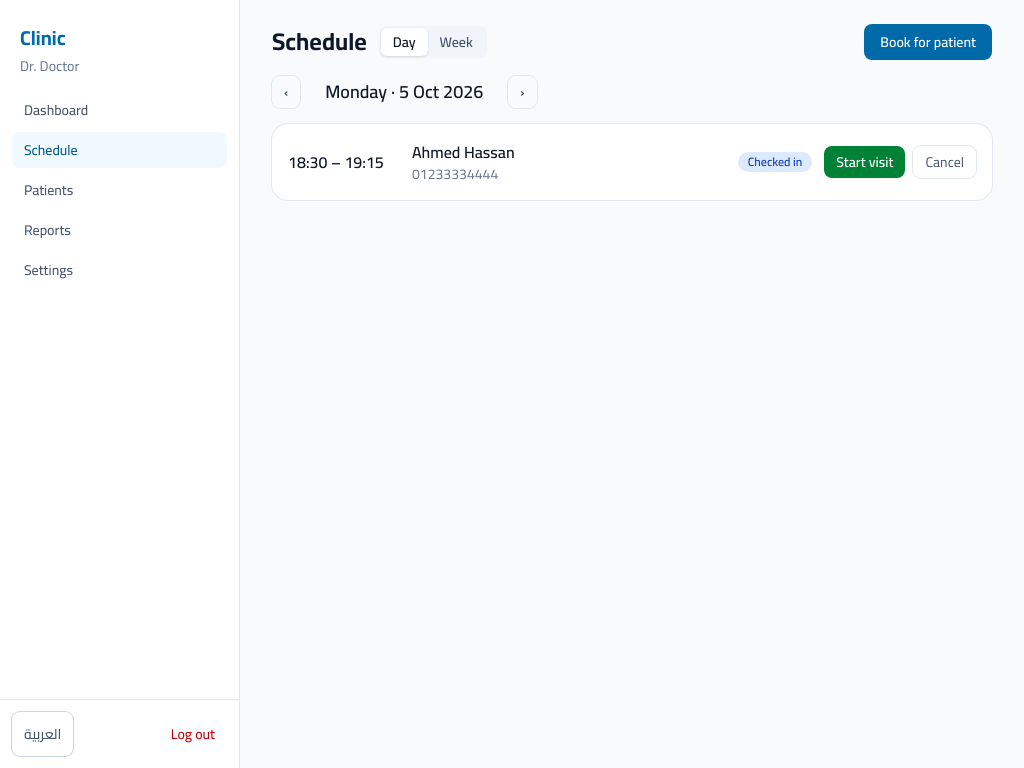
Scenario: Schedule: day view › cancels a checked-in appointment when the patient leaves without a visit
This screenshot has width=1024, height=768.
Click the button "Cancel".
click(945, 162)  # box [914,146,976,178]
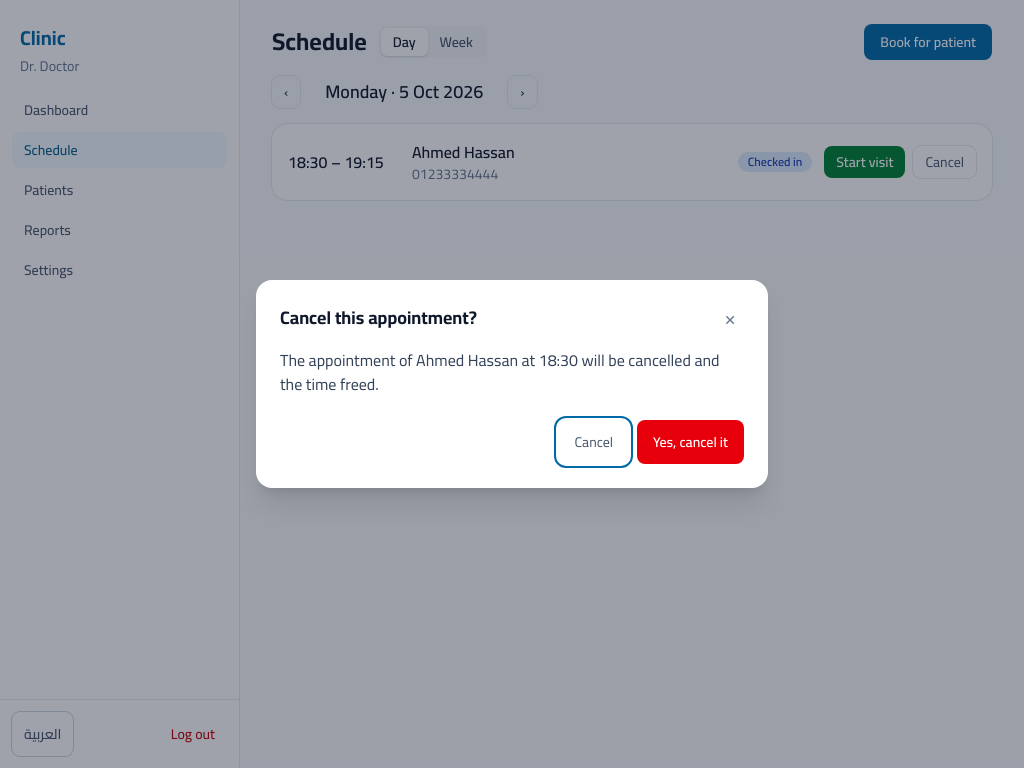
Click the button "Yes, cancel it".
click(690, 442)  # box [637,420,744,464]
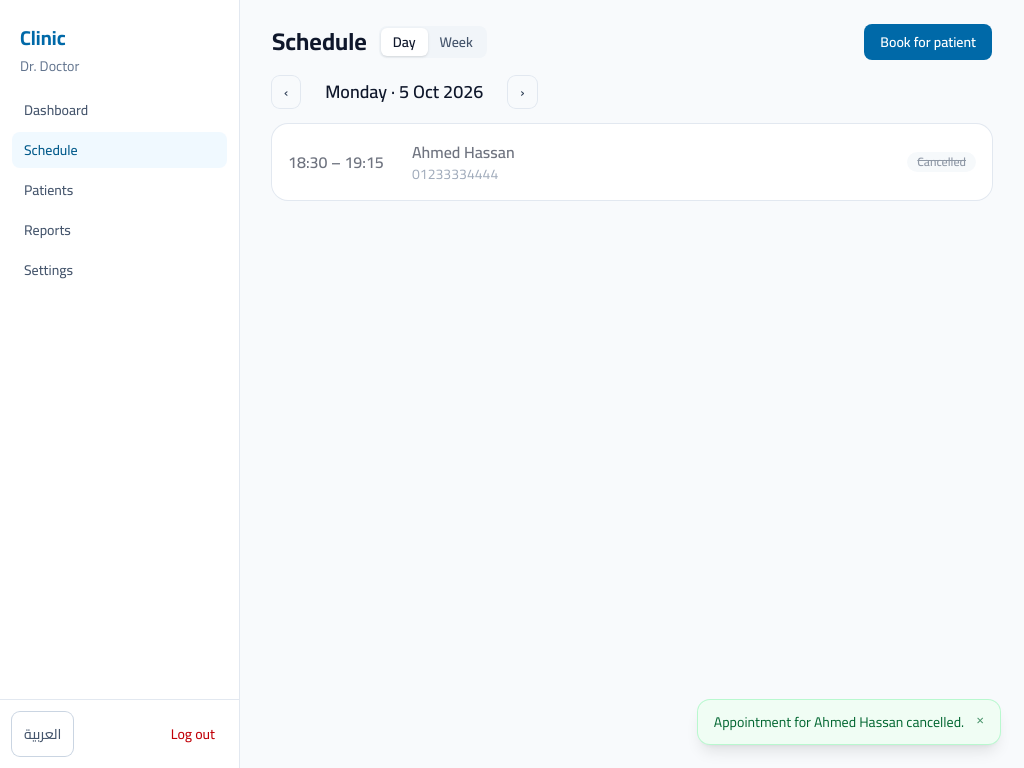
expect the text "Cancelled" is shown: met, box [907,152,976,172]
expect the link "Start visit" is gone: met
